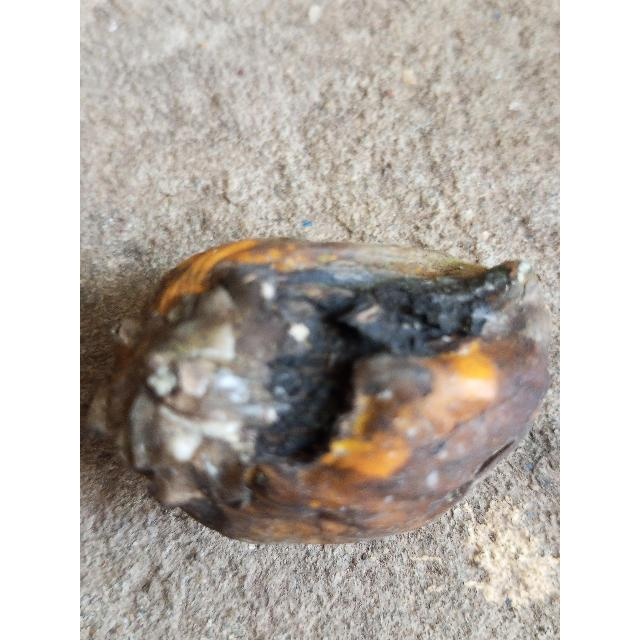damaged: (104, 237, 550, 550)
